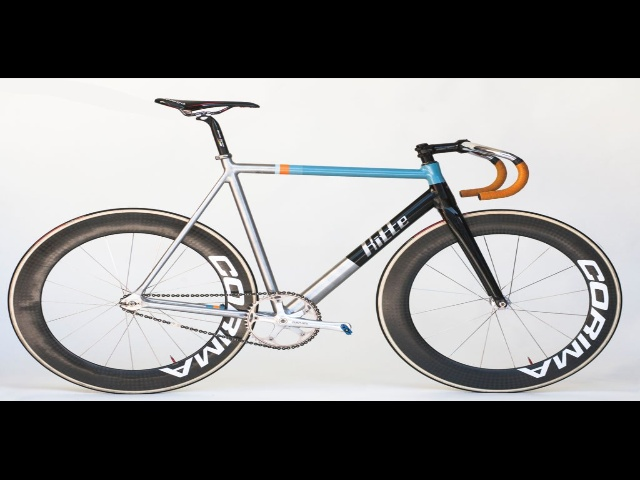bike: (9, 92, 624, 394)
